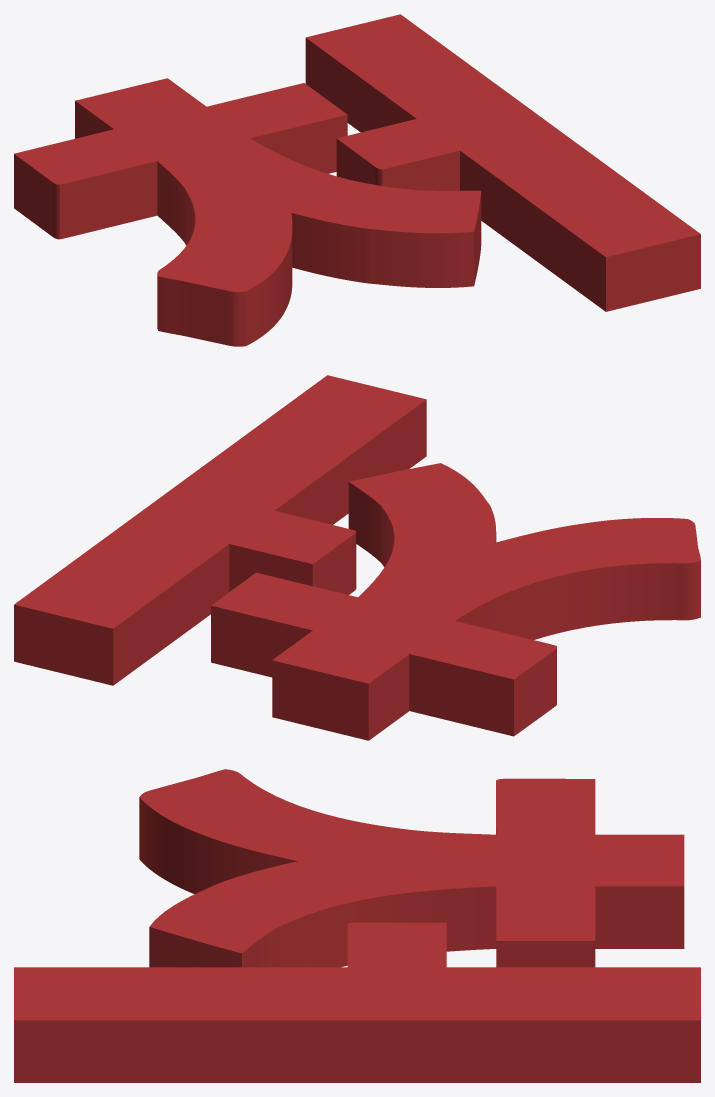
File: cheo.fbx
The picture shows the model from 3 angles, top to bottom: view 1: azimuth 30°, elevation 25°; view 2: azimuth 150°, elevation 25°; view 3: azimuth 270°, elevation 25°; orthographic projection. The views are drawn at different scales.
Visible parts, largest first — view 1: Curve, Curve.001; view 2: Curve, Curve.001; view 3: Curve.001, Curve.
Boxes of the visible parts, bbox=[...] form: Curve: bbox=[14, 78, 481, 346]; Curve.001: bbox=[305, 14, 700, 311]; Curve: bbox=[211, 463, 700, 740]; Curve.001: bbox=[14, 375, 426, 685]; Curve.001: bbox=[14, 922, 700, 1082]; Curve: bbox=[139, 769, 684, 967].
Bounding box in the file's own units: 1035 × 120 × 1196.
